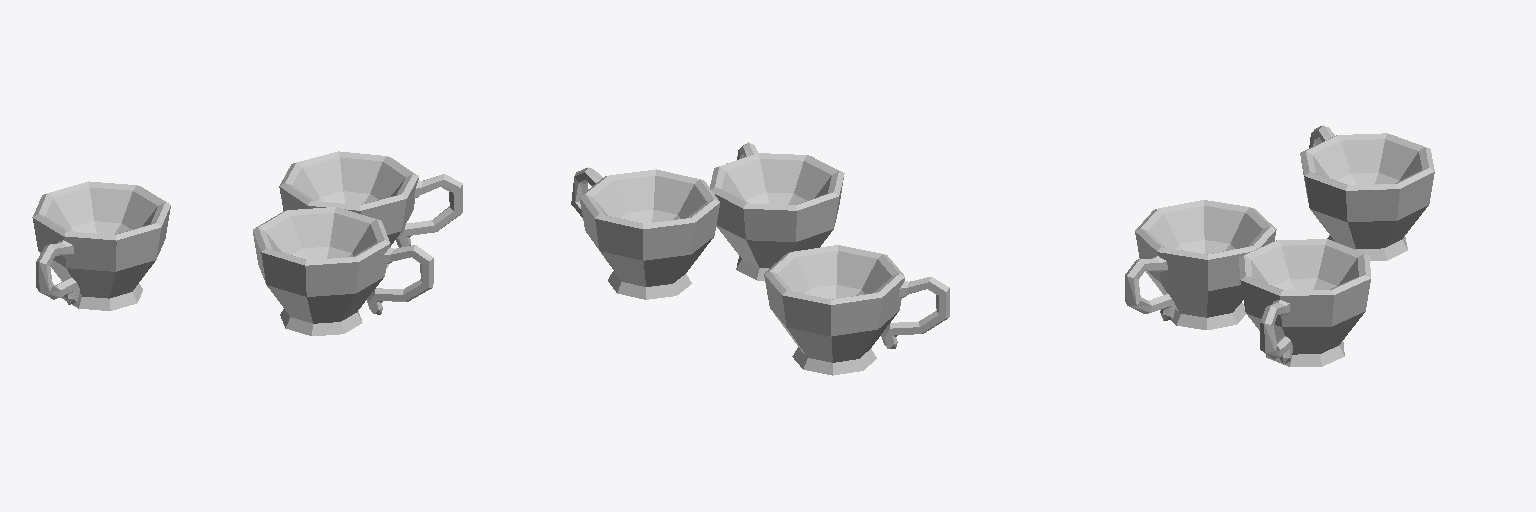
The model's file is Tazas.obj.
3 renders of one model, left to right at view 1: azimuth 30°, elevation 25°; view 2: azimuth 150°, elevation 25°; view 3: azimuth 270°, elevation 25°, orthographic.
Visible parts, largest first — view 1: polySurface23polySurface21polySurface14pasted__Indoor_MdProps_Li; view 2: polySurface23polySurface21polySurface14pasted__Indoor_MdProps_Li; view 3: polySurface23polySurface21polySurface14pasted__Indoor_MdProps_Li.
Part boxes in pixels (left/top/right/bottom): polySurface23polySurface21polySurface14pasted__Indoor_MdProps_Li: left=32, top=151, right=462, bottom=335; polySurface23polySurface21polySurface14pasted__Indoor_MdProps_Li: left=571, top=142, right=949, bottom=375; polySurface23polySurface21polySurface14pasted__Indoor_MdProps_Li: left=1125, top=125, right=1434, bottom=366.
Bounding box in the file's own units: 0.6371 × 0.1303 × 0.4289.